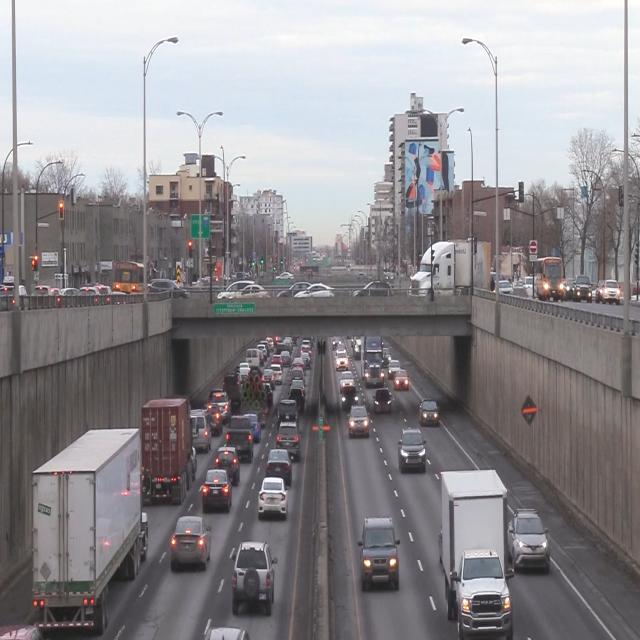Vehicle: (29, 429, 149, 634), (439, 473, 512, 638), (144, 395, 192, 501), (228, 538, 278, 618), (358, 514, 399, 589), (506, 506, 548, 576), (168, 516, 211, 579), (257, 477, 289, 522), (397, 427, 427, 473), (358, 337, 386, 386), (202, 472, 232, 512), (225, 416, 253, 457), (216, 445, 241, 486), (264, 451, 293, 482), (274, 424, 300, 457), (347, 405, 370, 440), (418, 397, 439, 427), (372, 388, 394, 416), (340, 386, 358, 412)
